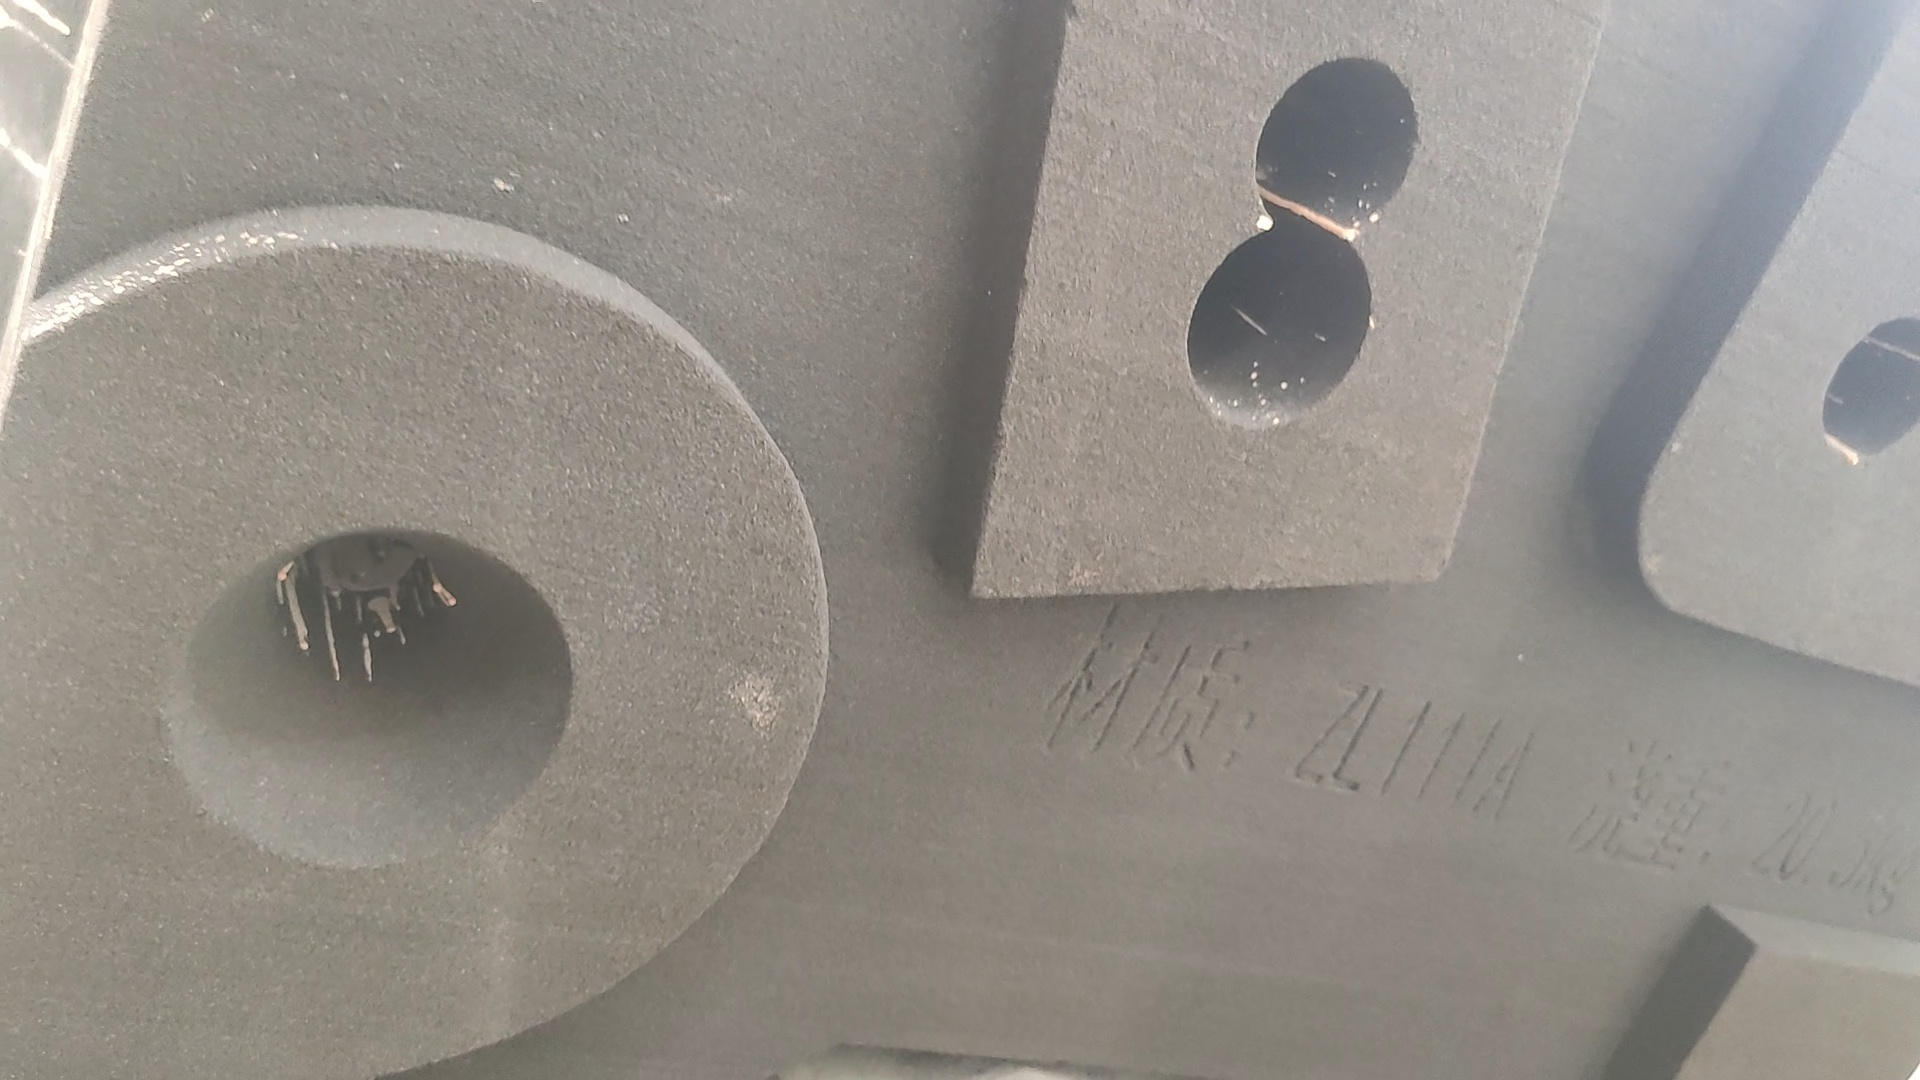pouring hole: (165, 524, 570, 870)
